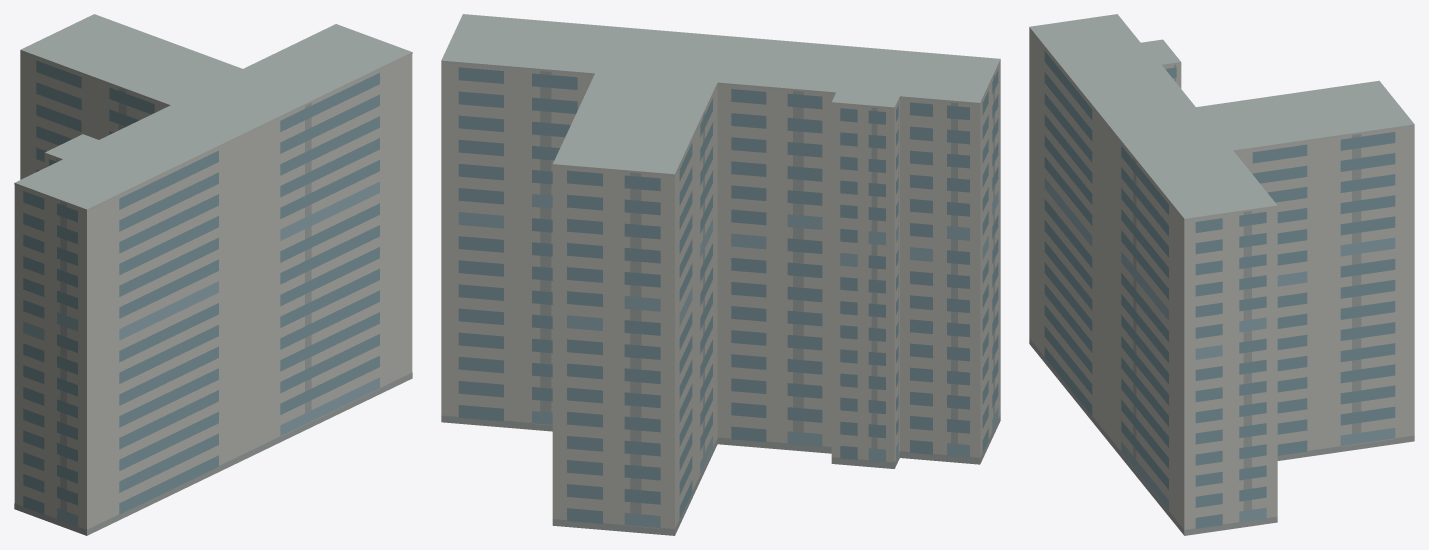
The model's file is residential-dcab4b2b-06c2-4c93-88c6-31a59ee00df4.glb.
3 views of the same model, side by side, from view 1: azimuth 30°, elevation 25°; view 2: azimuth 150°, elevation 25°; view 3: azimuth 270°, elevation 25° (orthographic). The views are drawn at different scales.
Parts seen in each view (by area): view 1: residential-dcab4b2b-06c2-4c93-88c6-31a59ee00df4.tmp; view 2: residential-dcab4b2b-06c2-4c93-88c6-31a59ee00df4.tmp; view 3: residential-dcab4b2b-06c2-4c93-88c6-31a59ee00df4.tmp.
Boxes of the visible parts, x1,y1,x2,y2 form: residential-dcab4b2b-06c2-4c93-88c6-31a59ee00df4.tmp: (14, 14, 412, 535); residential-dcab4b2b-06c2-4c93-88c6-31a59ee00df4.tmp: (441, 14, 1000, 535); residential-dcab4b2b-06c2-4c93-88c6-31a59ee00df4.tmp: (1029, 14, 1414, 535).
Size of the model in its own units: 58.23 by 42 by 46.29.
